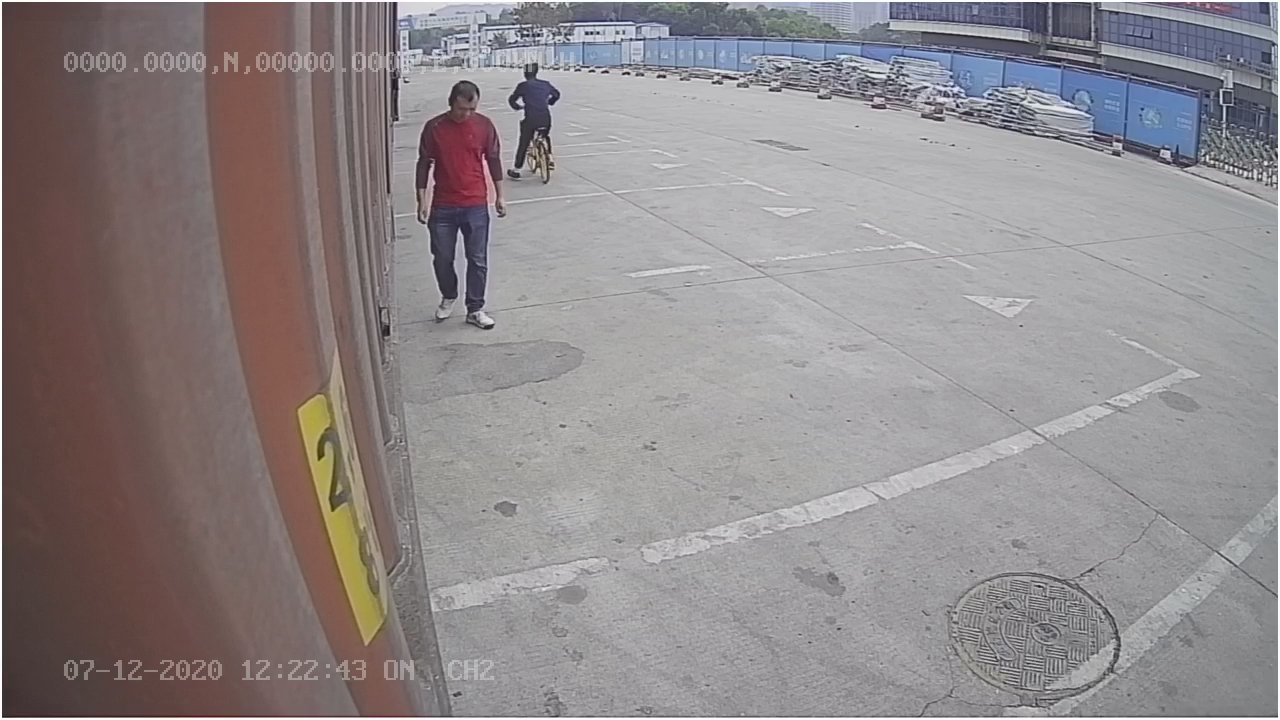person: (409, 73, 509, 339)
